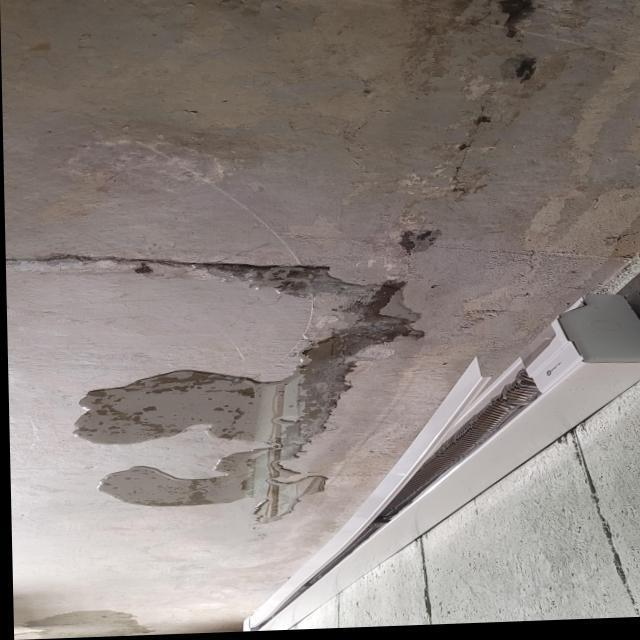water accumulation: (73, 252, 422, 527)
